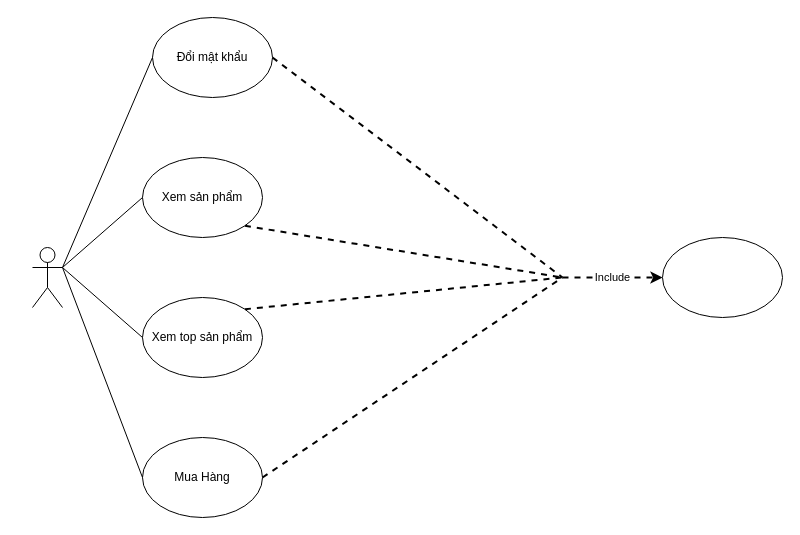
This 800x535 diagram has some shape labels left out. The centre of each missing label's shape, as x and y in pixels:
"NguoiDung" goes at [47,277].
"Đăng nhập" goes at [722,277].
